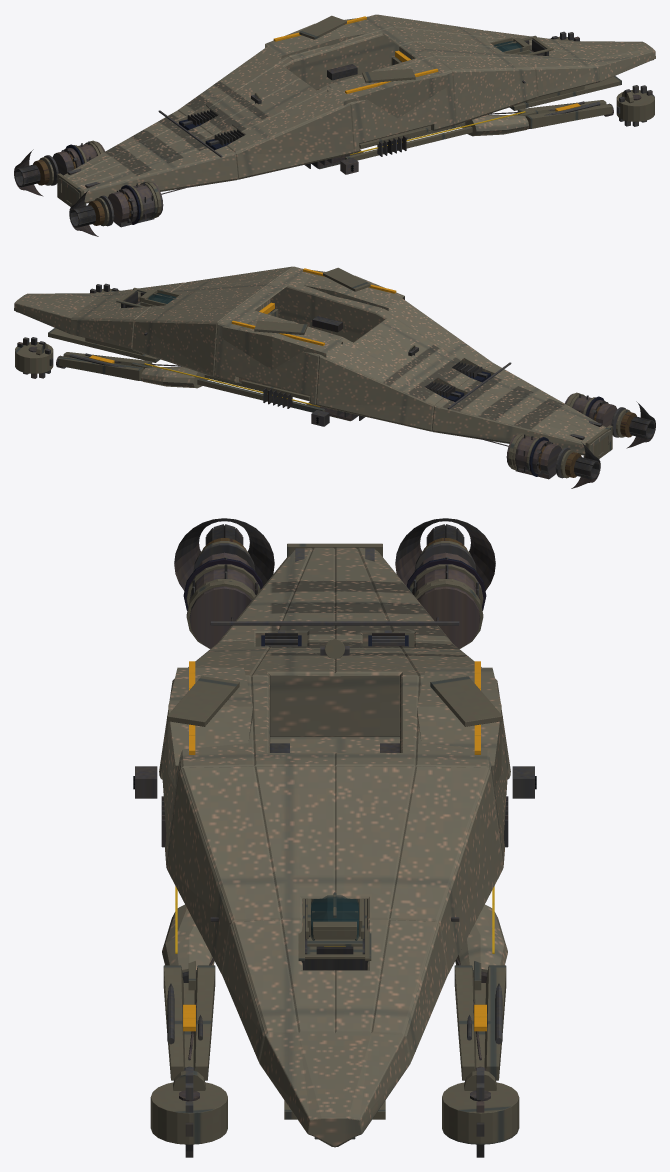
Rendered from helios_cradle_production_v1_lod0.glb.
3 renders of one model, top to bottom at view 1: azimuth 30°, elevation 25°; view 2: azimuth 150°, elevation 25°; view 3: azimuth 270°, elevation 25°, orthographic. The views are drawn at different scales.
Visible parts, largest first — view 1: LOD0_Hull, LOD0_Armor, LOD0_Mechanical, LOD0_Warning, LOD0_Ceramic, LOD0_Radiator; view 2: LOD0_Hull, LOD0_Armor, LOD0_Mechanical, LOD0_Warning, LOD0_Ceramic, LOD0_Radiator; view 3: LOD0_Hull, LOD0_Armor, LOD0_Mechanical, LOD0_Warning, LOD0_Radiator, LOD0_Canopy.
Boxes of the visible parts, box(x1,y1,x2,y2) form: LOD0_Hull: box(58, 14, 655, 204); LOD0_Armor: box(39, 15, 654, 226); LOD0_Mechanical: box(14, 31, 652, 236); LOD0_Warning: box(273, 16, 580, 111); LOD0_Ceramic: box(33, 152, 131, 225); LOD0_Radiator: box(65, 119, 233, 224); LOD0_Hull: box(14, 266, 611, 456); LOD0_Armor: box(15, 267, 630, 478); LOD0_Mechanical: box(17, 283, 655, 488); LOD0_Warning: box(89, 268, 396, 363); LOD0_Ceramic: box(538, 404, 636, 477); LOD0_Radiator: box(436, 371, 604, 476); LOD0_Hull: box(159, 547, 510, 1147); LOD0_Armor: box(150, 541, 519, 1144); LOD0_Mechanical: box(135, 518, 534, 1157); LOD0_Warning: box(183, 661, 486, 1031); LOD0_Radiator: box(183, 558, 486, 646); LOD0_Canopy: box(310, 895, 359, 940).
Size of what is drawn, in the model's own units: 15.1 by 2.58 by 4.38.
9 materials, 9 textured.
